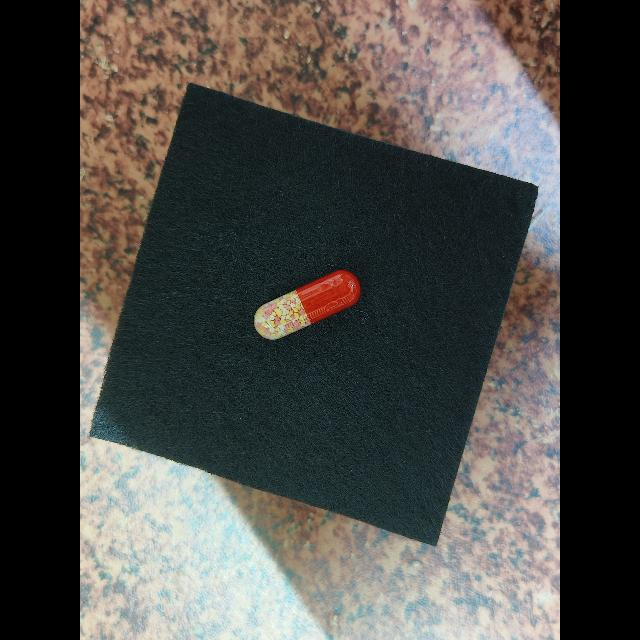Intact Capsule: (253, 270, 361, 340)
